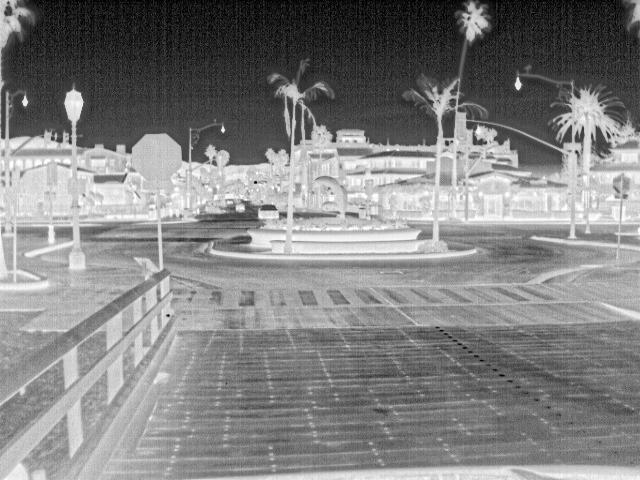car: (256, 204, 280, 222), (234, 202, 248, 214)
person: (173, 199, 182, 218), (168, 200, 175, 218)
